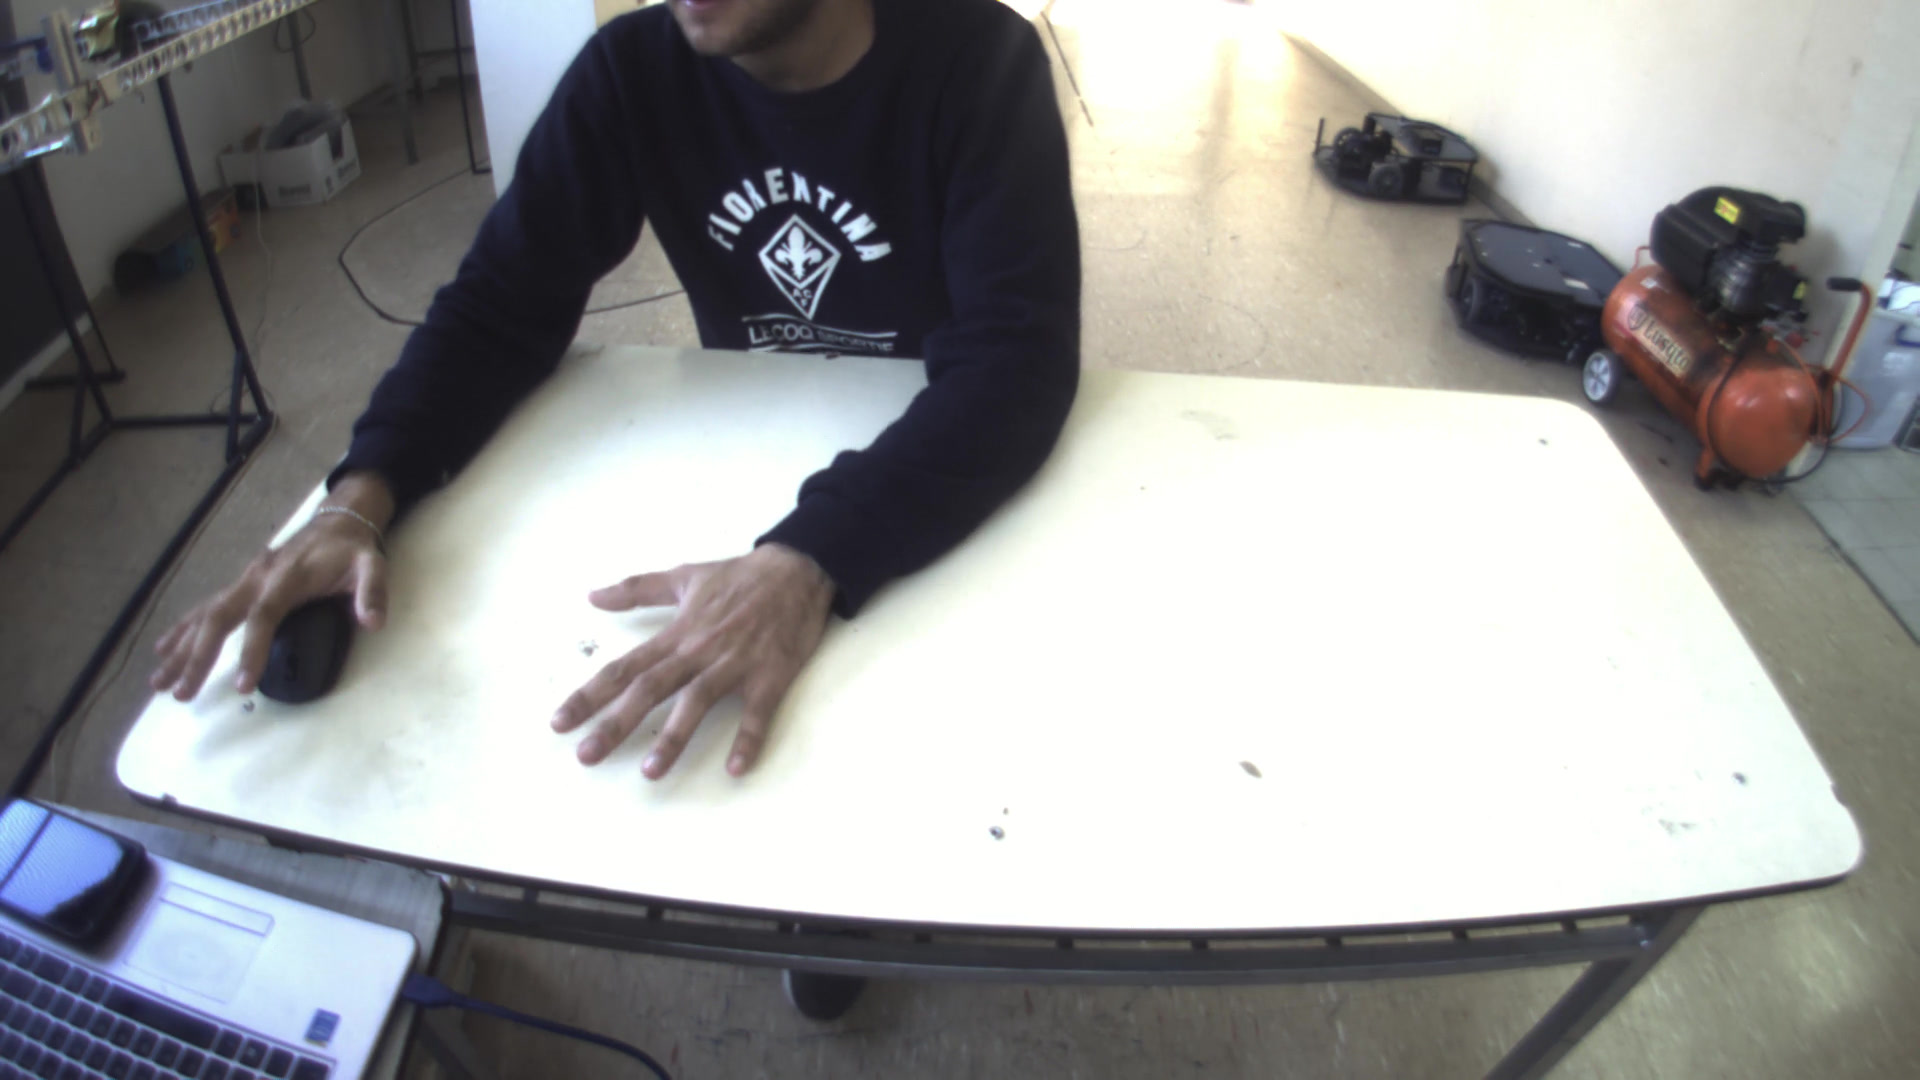hand: (535, 533, 840, 798), (133, 502, 396, 717)
